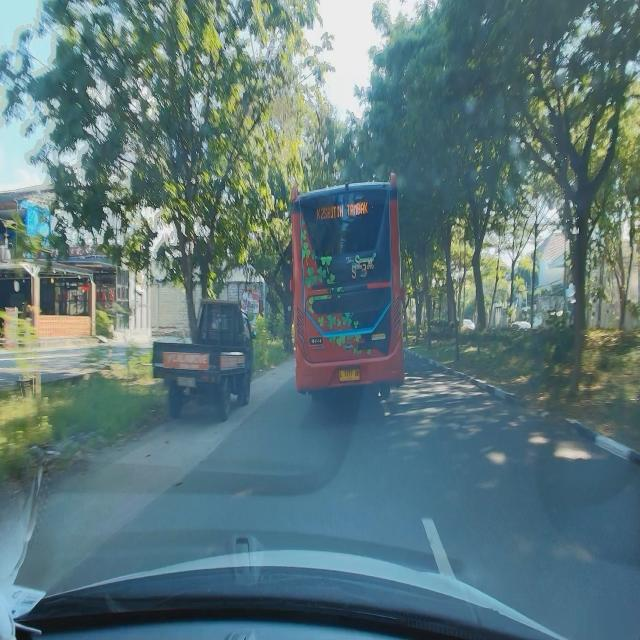bus: (285, 171, 409, 412)
license-plate: (338, 368, 361, 382)
truck: (150, 294, 255, 422)
